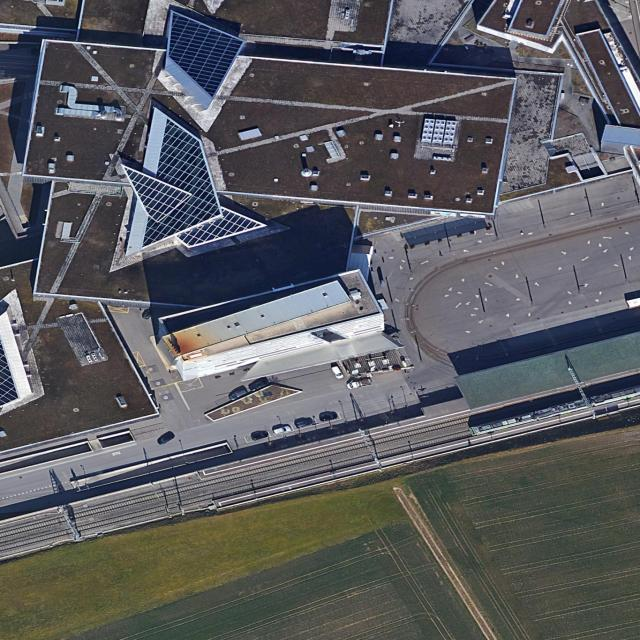large-vehicle: (345, 378, 373, 389), (330, 366, 345, 380)
small-vehicle: (247, 379, 270, 393), (156, 431, 177, 446), (228, 389, 249, 401), (270, 425, 292, 436), (294, 418, 315, 429), (319, 412, 338, 422), (251, 432, 268, 441)
